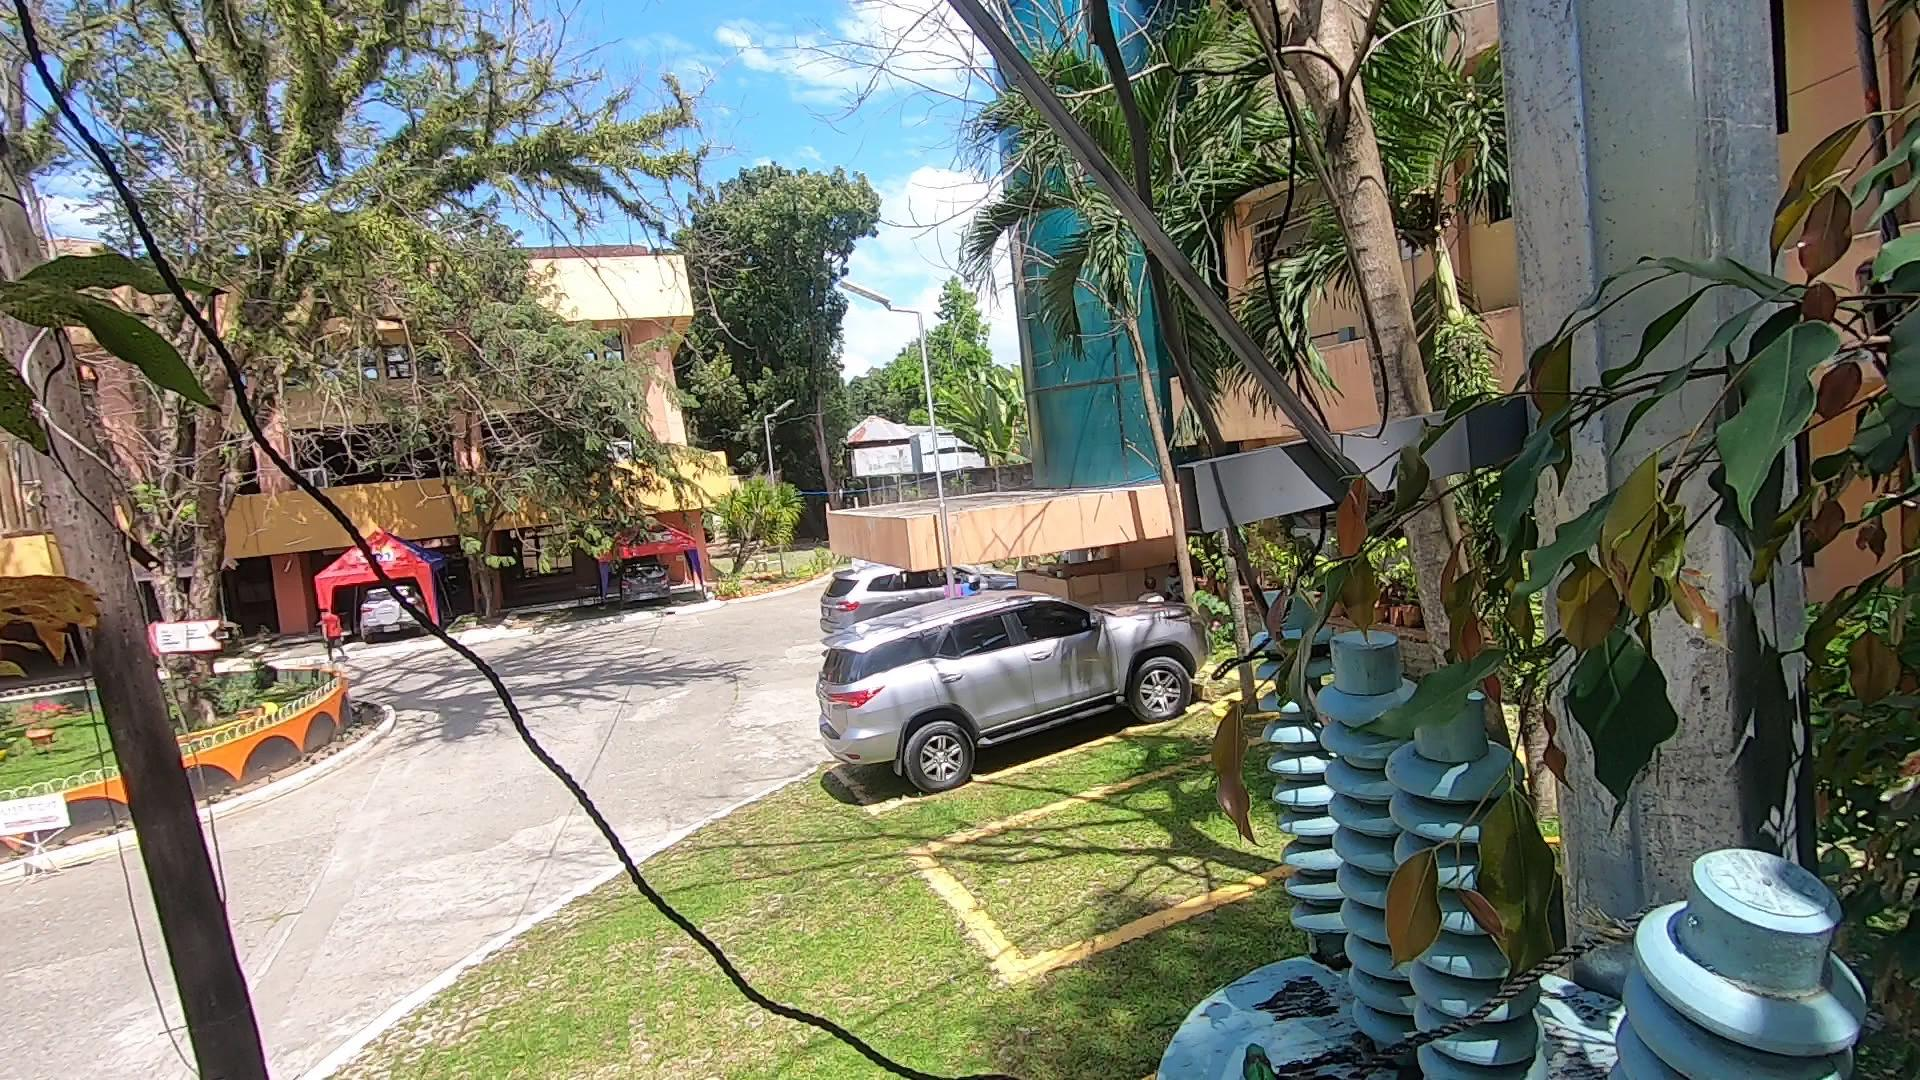branch with leaves: (1232, 480, 1622, 982)
tree branch: (1048, 7, 1308, 462)
